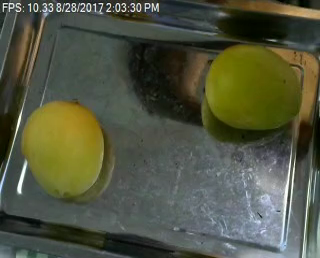Mango: (24, 96, 113, 197), (201, 43, 303, 127)
